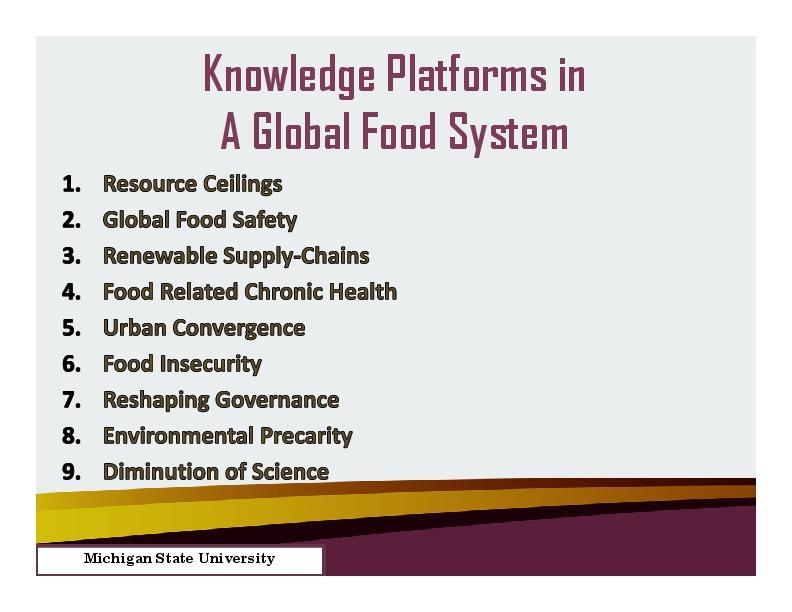paragraph: (47, 165, 427, 501)
title: (194, 46, 622, 163)
